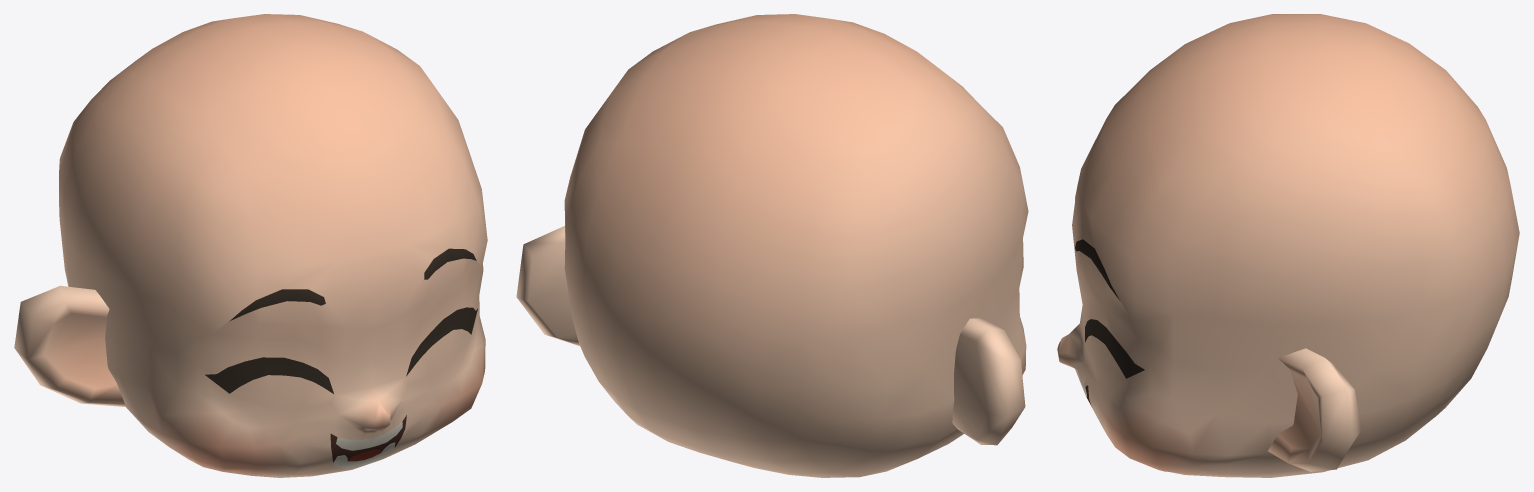
File: Happy.fbx
3 renders of one model, left to right at view 1: azimuth 30°, elevation 25°; view 2: azimuth 150°, elevation 25°; view 3: azimuth 270°, elevation 25°, orthographic. The views are drawn at different scales.
Visible parts, largest first — view 1: Happy; view 2: Happy; view 3: Happy.
Boxes of the visible parts, left/top/right/bottom form: Happy: left=14, top=14, right=487, bottom=477; Happy: left=516, top=14, right=1028, bottom=477; Happy: left=1057, top=14, right=1519, bottom=477.
Size of the model in its own units: 81.66 by 66.4 by 68.58.
